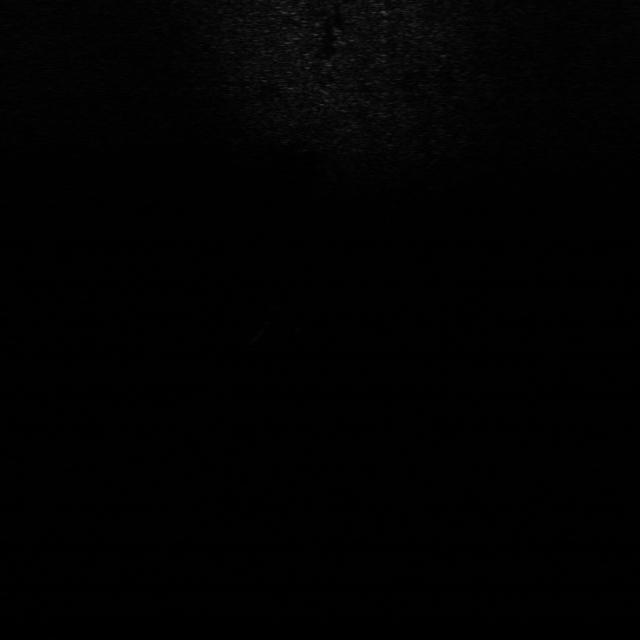human body: (260, 299, 320, 346)
